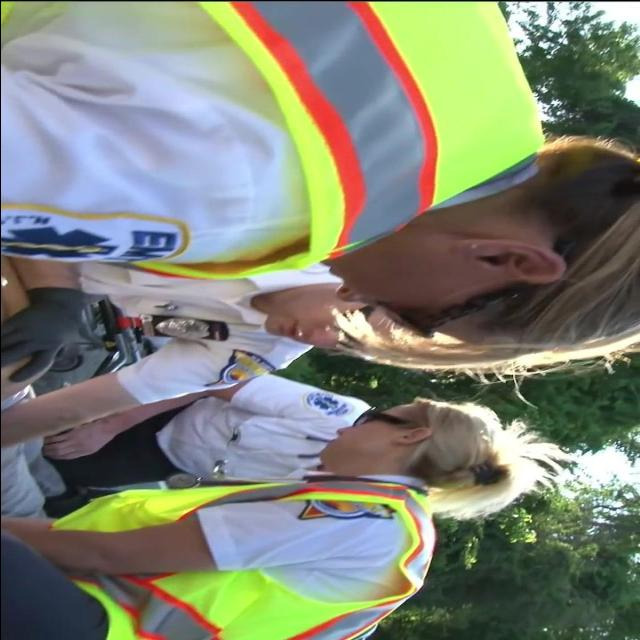jacket: (9, 1, 565, 285), (71, 478, 445, 640)
